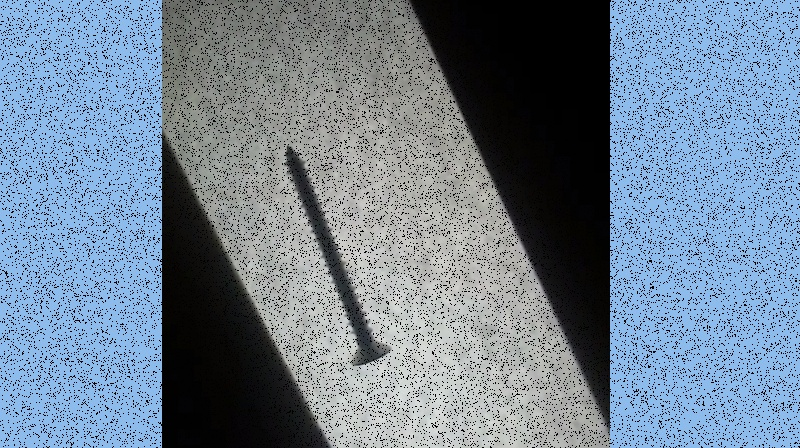S002: (278, 140, 394, 372)
